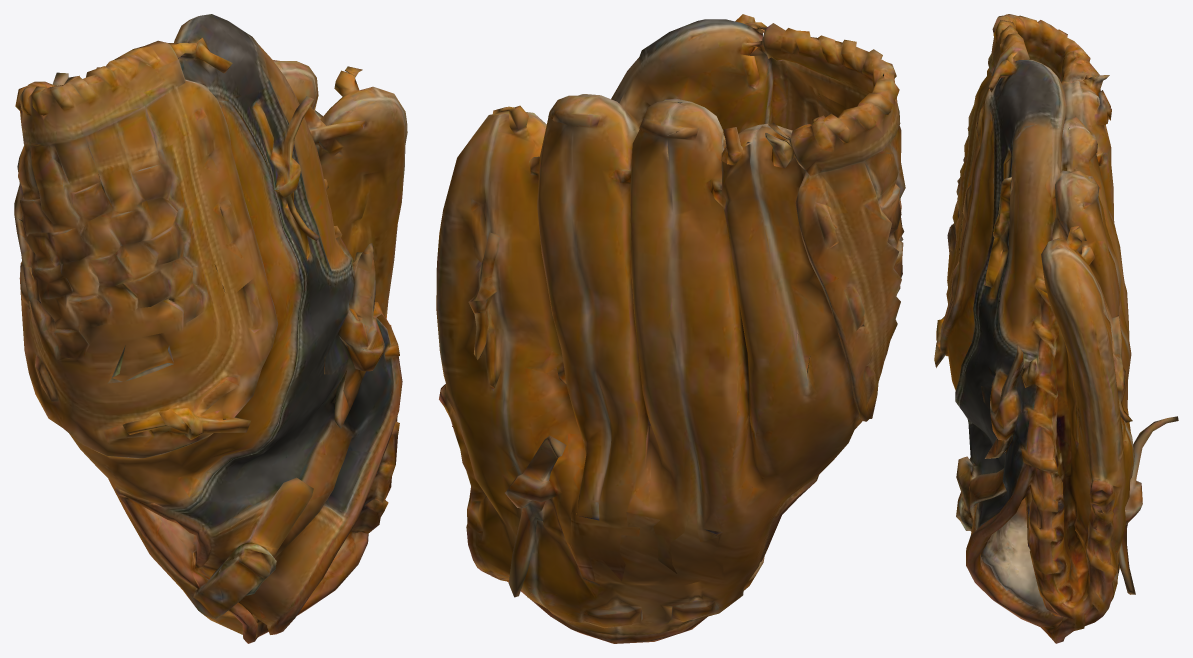
File: fp_glove.glb
The picture shows the model from 3 angles, left to right: view 1: azimuth 30°, elevation 25°; view 2: azimuth 150°, elevation 25°; view 3: azimuth 270°, elevation 25°; orthographic projection. The views are drawn at different scales.
Parts seen in each view (by area): view 1: FpGlove; view 2: FpGlove; view 3: FpGlove.
Boxes of the visible parts, x1=… form: FpGlove: x1=14, y1=14, x2=407, y2=643; FpGlove: x1=436, y1=14, x2=905, y2=643; FpGlove: x1=934, y1=14, x2=1178, y2=643.
Bounding box in the file's own units: 0.2122 × 0.3081 × 0.1279.
1 material, 1 textured.
